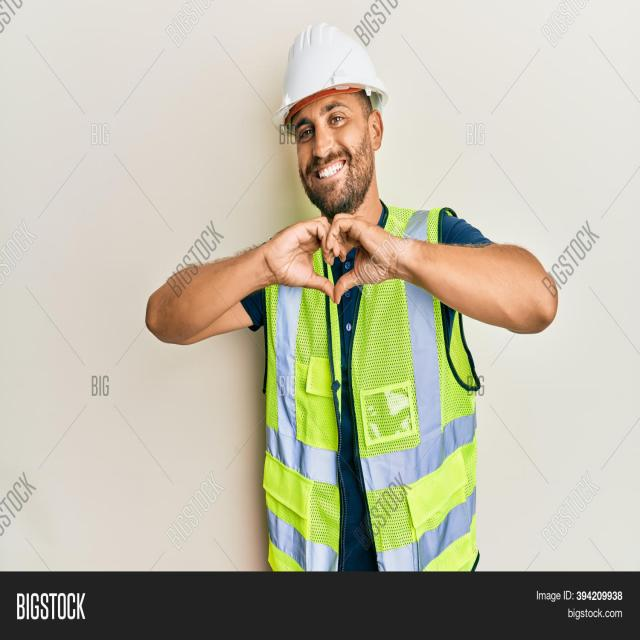Reflective-Jacket: (257, 204, 477, 573)
Safety-Helmet: (272, 17, 392, 121)
